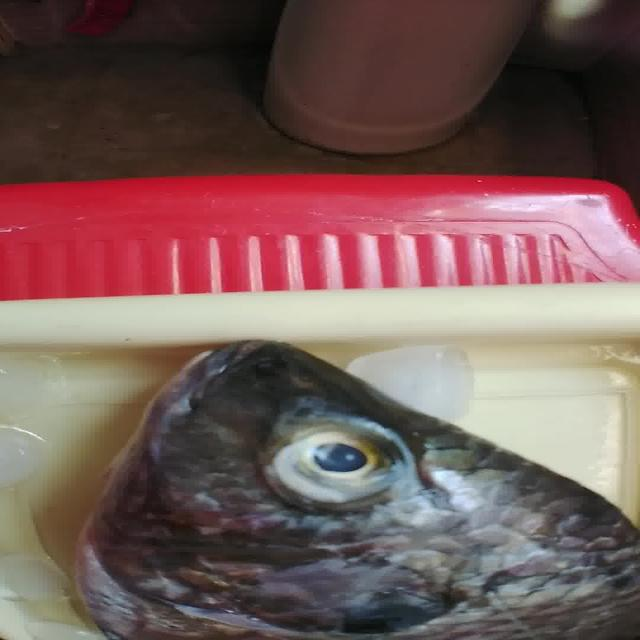Fresh: (276, 400, 438, 506)
